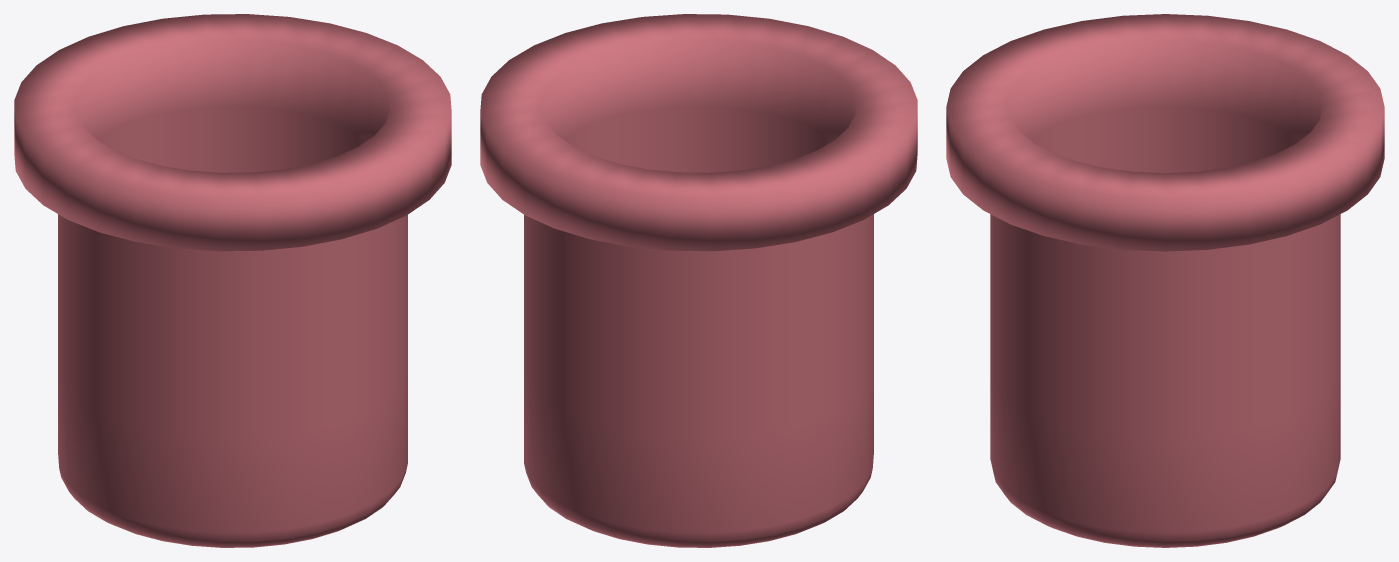
The picture shows the model from 3 angles, left to right: view 1: azimuth 30°, elevation 25°; view 2: azimuth 150°, elevation 25°; view 3: azimuth 270°, elevation 25°; orthographic projection.
Visible parts, largest first — view 1: Circle.001; view 2: Circle.001; view 3: Circle.001.
Part boxes in pixels (x1,y1,x2,y2): Circle.001: (14, 14, 451, 547); Circle.001: (480, 14, 917, 547); Circle.001: (946, 14, 1384, 547).
Bounding box in the file's own units: 0.209 × 0.198 × 0.209.
